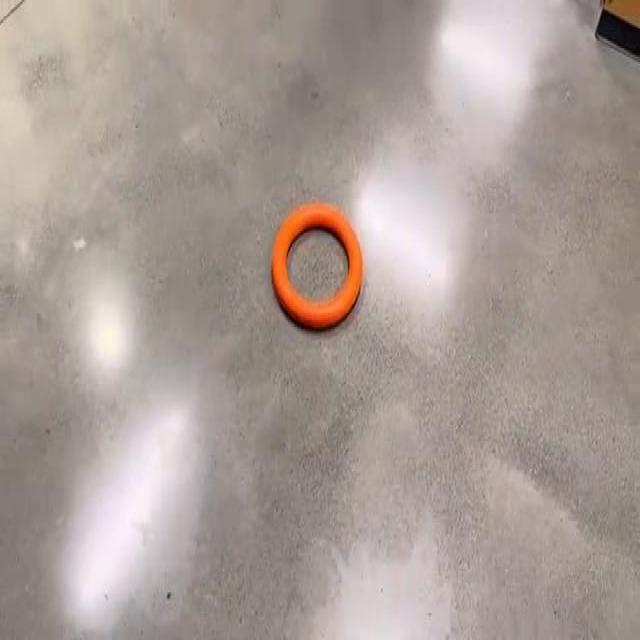note: (272, 203, 363, 329)
